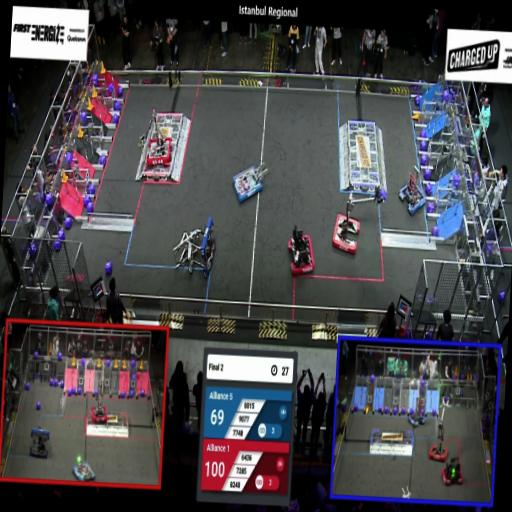robot: (331, 186, 390, 256), (170, 216, 220, 282), (134, 108, 176, 171), (231, 160, 270, 208), (428, 396, 452, 466), (287, 224, 317, 278), (397, 164, 428, 216), (88, 380, 110, 426), (29, 424, 52, 460), (442, 454, 466, 486), (407, 394, 428, 430), (72, 458, 96, 482)
